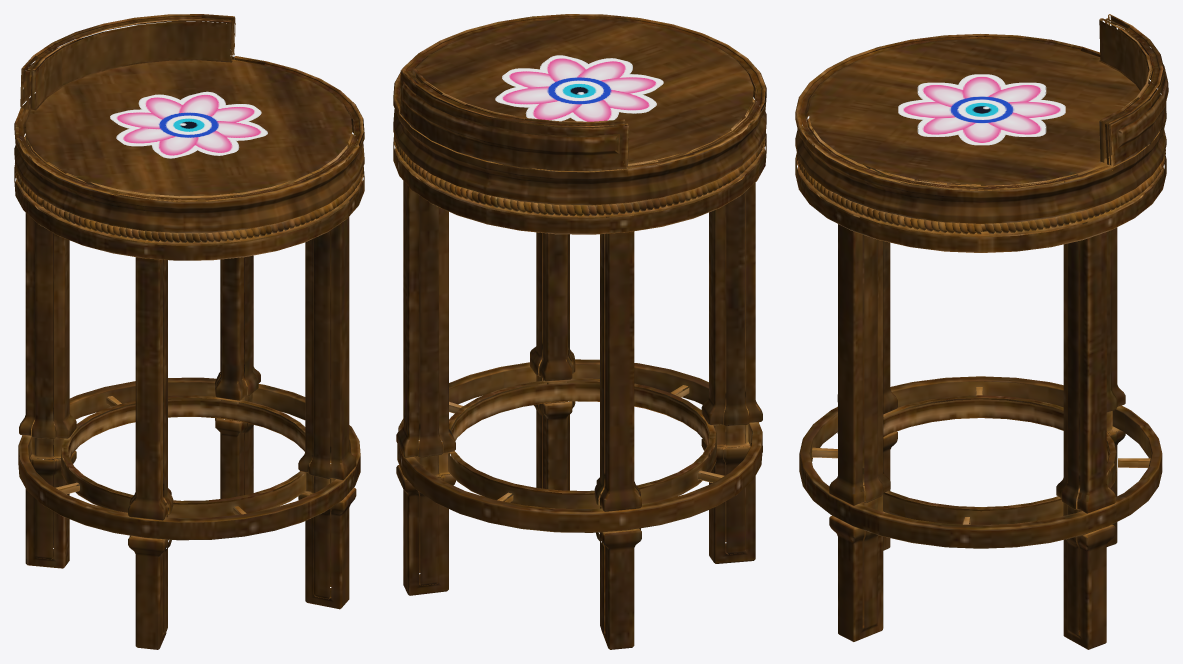
Rendered from nyb_disco_stool.glb.
3 renders of one model, left to right at view 1: azimuth 30°, elevation 25°; view 2: azimuth 150°, elevation 25°; view 3: azimuth 270°, elevation 25°, orthographic. The views are drawn at different scales.
Visible parts, largest first — view 1: bar_chair_round_01, stk_eyeflower_die.png; view 2: bar_chair_round_01, stk_eyeflower_die.png; view 3: bar_chair_round_01, stk_eyeflower_die.png.
Part boxes in pixels (x1,y1,x2,y2): bar_chair_round_01: [14, 14, 364, 649]; stk_eyeflower_die.png: [110, 91, 267, 158]; bar_chair_round_01: [393, 14, 766, 649]; stk_eyeflower_die.png: [495, 55, 663, 121]; bar_chair_round_01: [795, 14, 1168, 649]; stk_eyeflower_die.png: [898, 74, 1065, 145].
Size of the model in its own units: 0.4831 by 0.7505 by 0.486.
2 materials, 2 textured.
